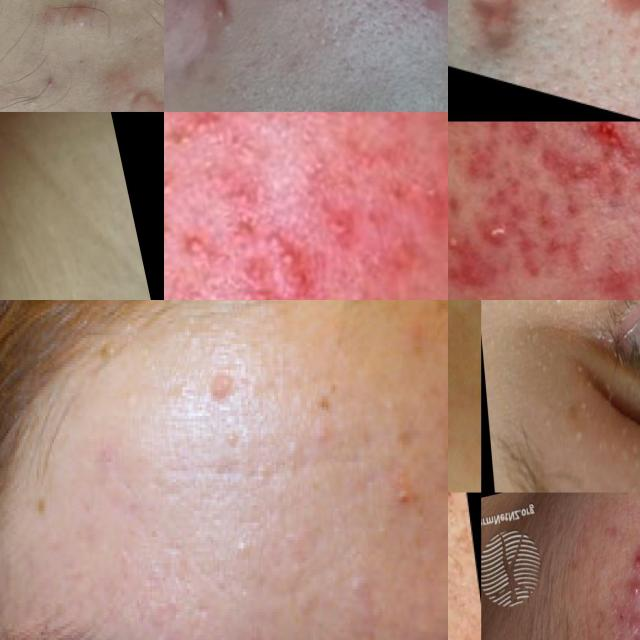comedone: (164, 112, 238, 159)
folliculitis: (448, 228, 464, 264)
keloid: (452, 0, 536, 62), (120, 81, 164, 112)
milium: (566, 381, 640, 492), (544, 300, 618, 324)
papule: (405, 0, 448, 30), (364, 0, 414, 12)
pustule: (260, 216, 310, 275), (173, 219, 220, 264), (422, 165, 448, 206), (627, 577, 640, 607), (631, 540, 640, 576)
sebo-crystan-conglo: (582, 121, 632, 162), (478, 210, 518, 252), (541, 122, 588, 137)
